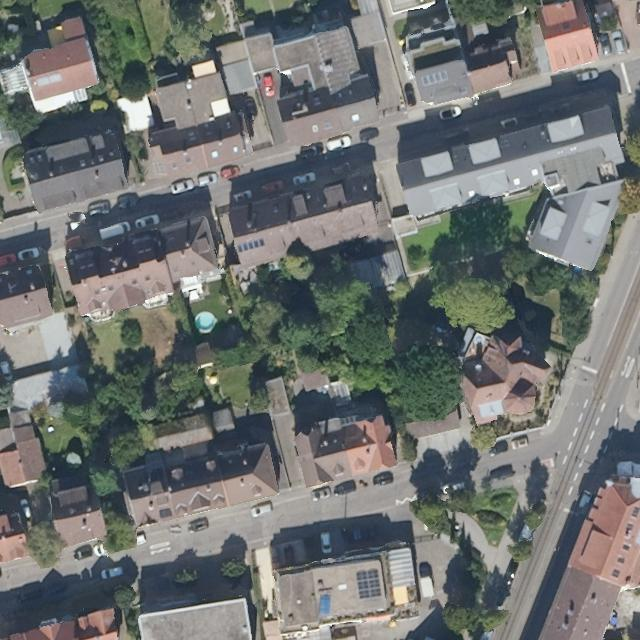PV: (352, 566, 383, 601)
